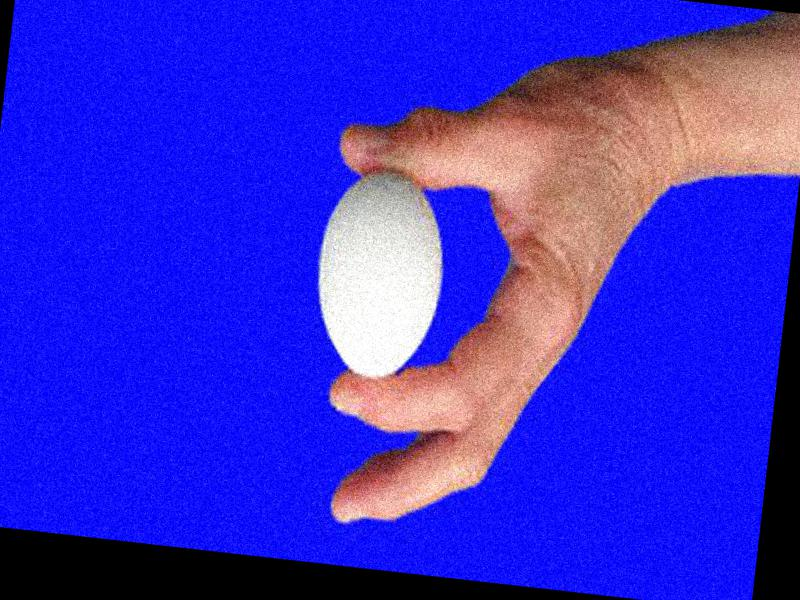Eggs: (307, 165, 453, 388)
